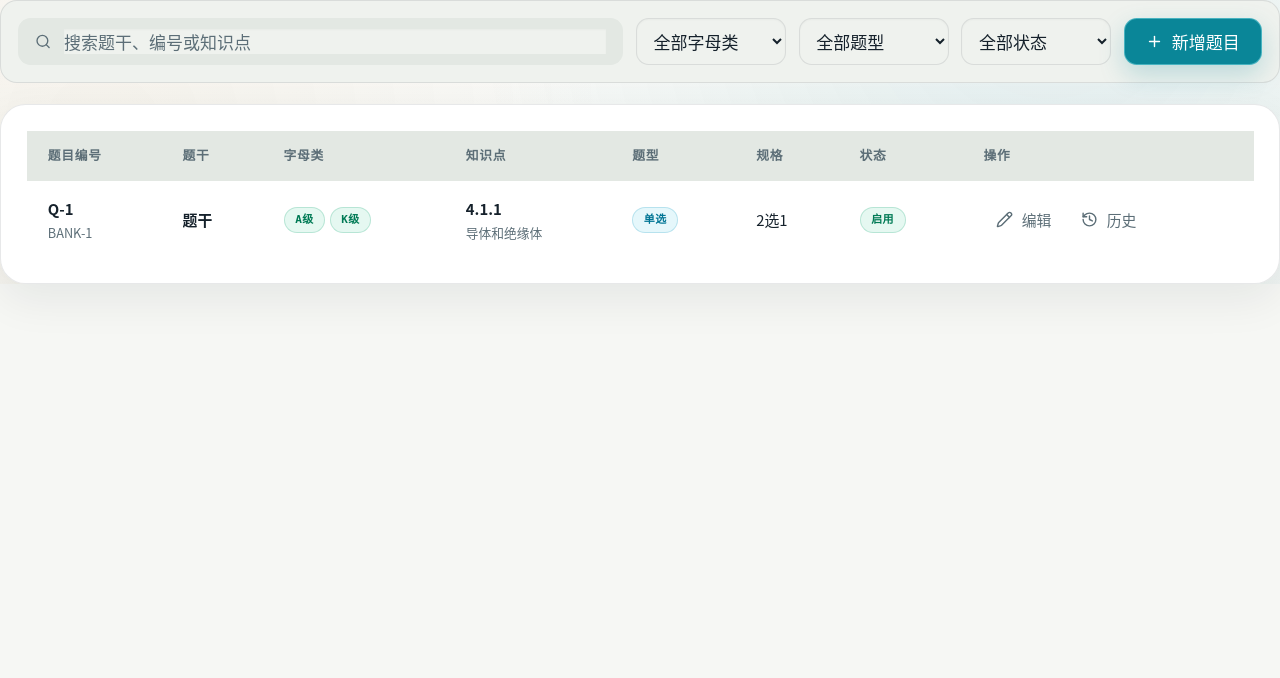
Scenario: QuestionManager (S8) › shows an API error without refreshing
The image size is (1280, 678).
What coordinates should you click on to do the following:
click the button "编辑"
I would click on:
 (1024, 220)
Its box is 984,201 -> 1064,239.
(page scrolled)
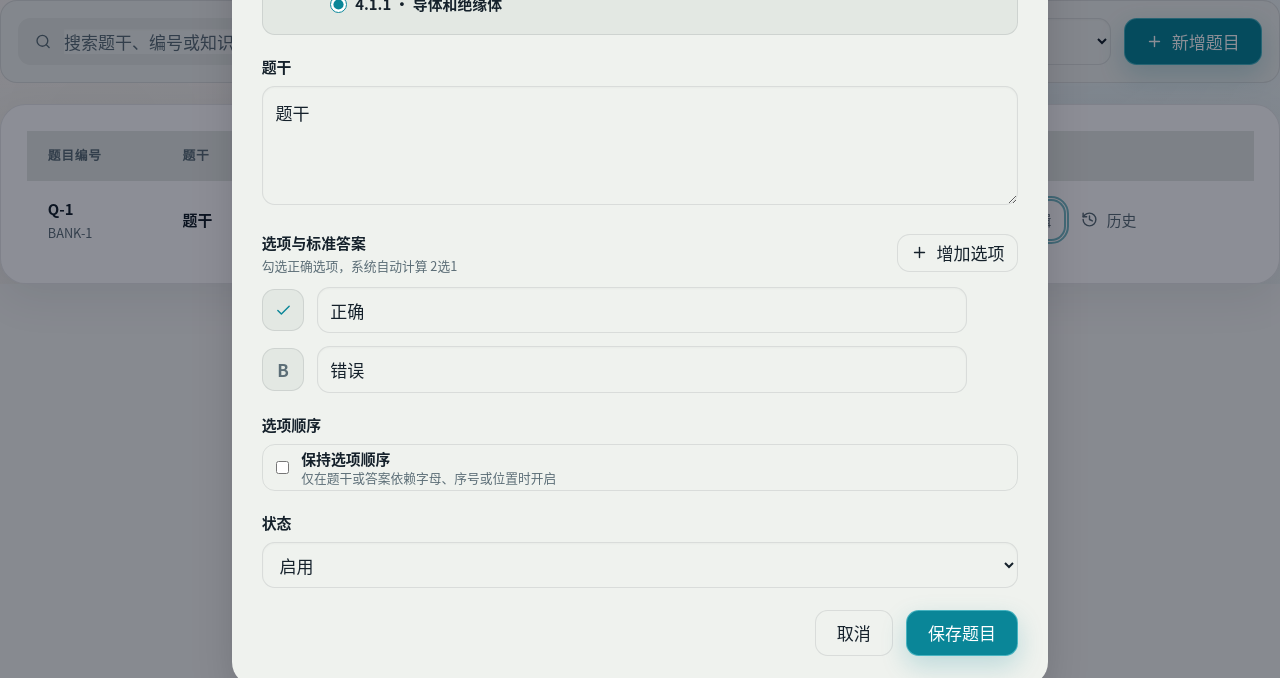
What coordinates should you click on to do the following:
click the button "保存题目"
I would click on:
 (962, 633)
Its box is 906,610 -> 1018,656.
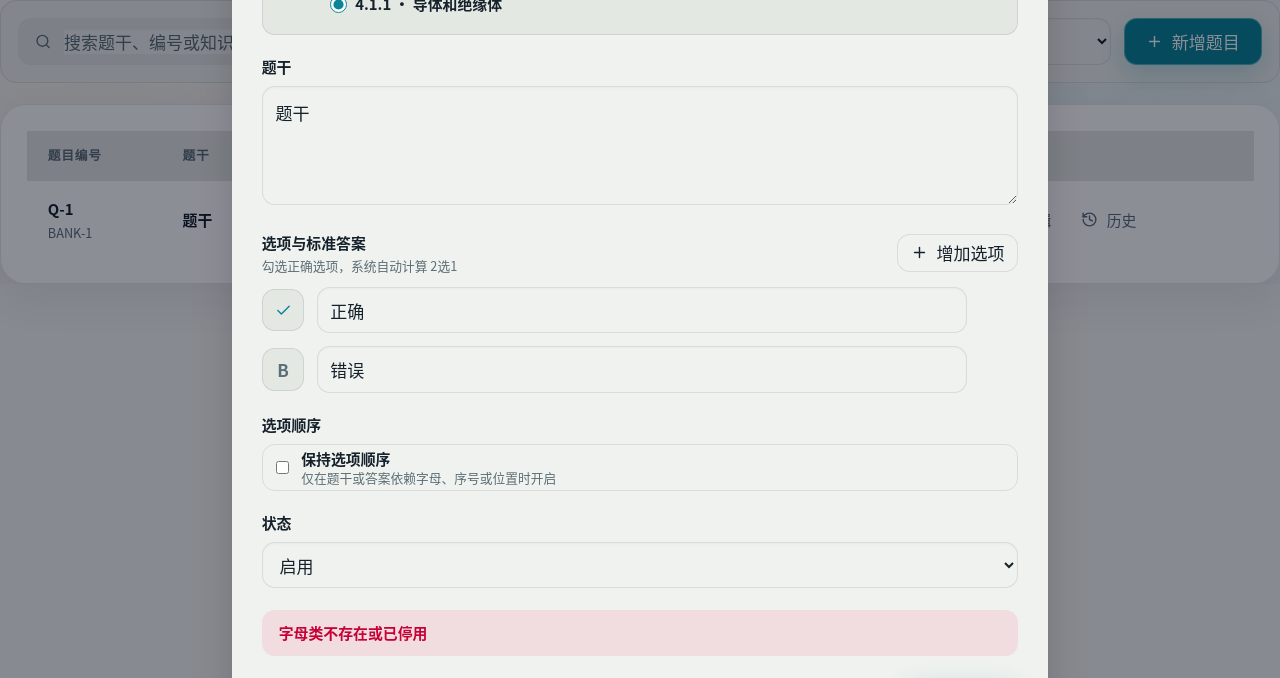
Expected: the message reads "字母类不存在或已停用", 279,622 -> 427,644
